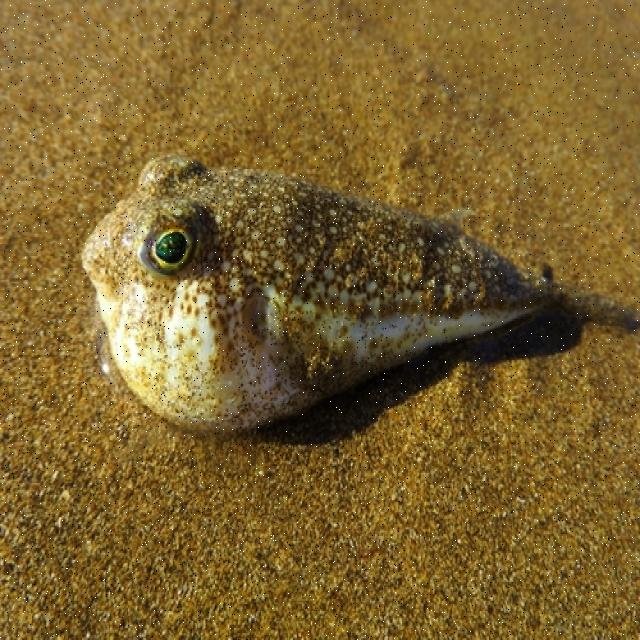Balik: (84, 158, 638, 430)
